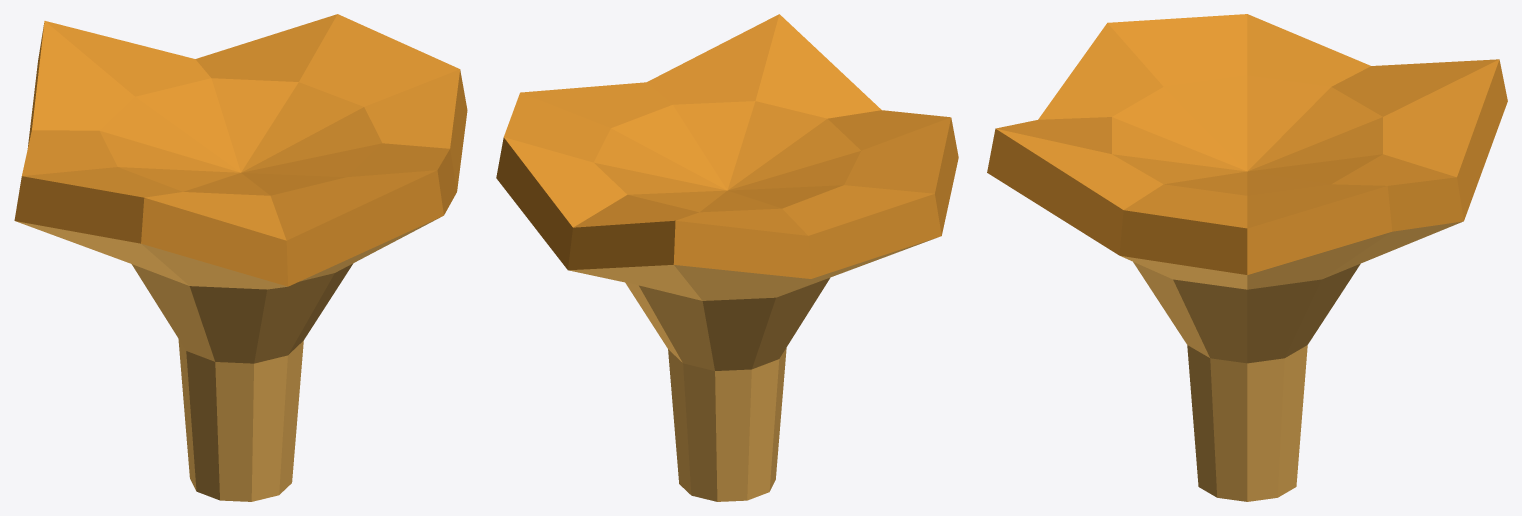
File: mushroom_chanterelle.glb
3 views of the same model, side by side, from view 1: azimuth 30°, elevation 25°; view 2: azimuth 150°, elevation 25°; view 3: azimuth 270°, elevation 25° (orthographic). The views are drawn at different scales.
Parts seen in each view (by area): view 1: mushroom_chanterelle; view 2: mushroom_chanterelle; view 3: mushroom_chanterelle.
Boxes of the visible parts, x1,y1,x2,y2 form: mushroom_chanterelle: (14, 14, 467, 501); mushroom_chanterelle: (496, 14, 958, 501); mushroom_chanterelle: (987, 14, 1507, 501).
Bounding box in the file's own units: 0.1324 × 0.1076 × 0.1315.
1 material, 1 textured.
